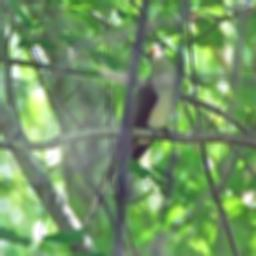Cuckoo: (75, 39, 181, 230)
